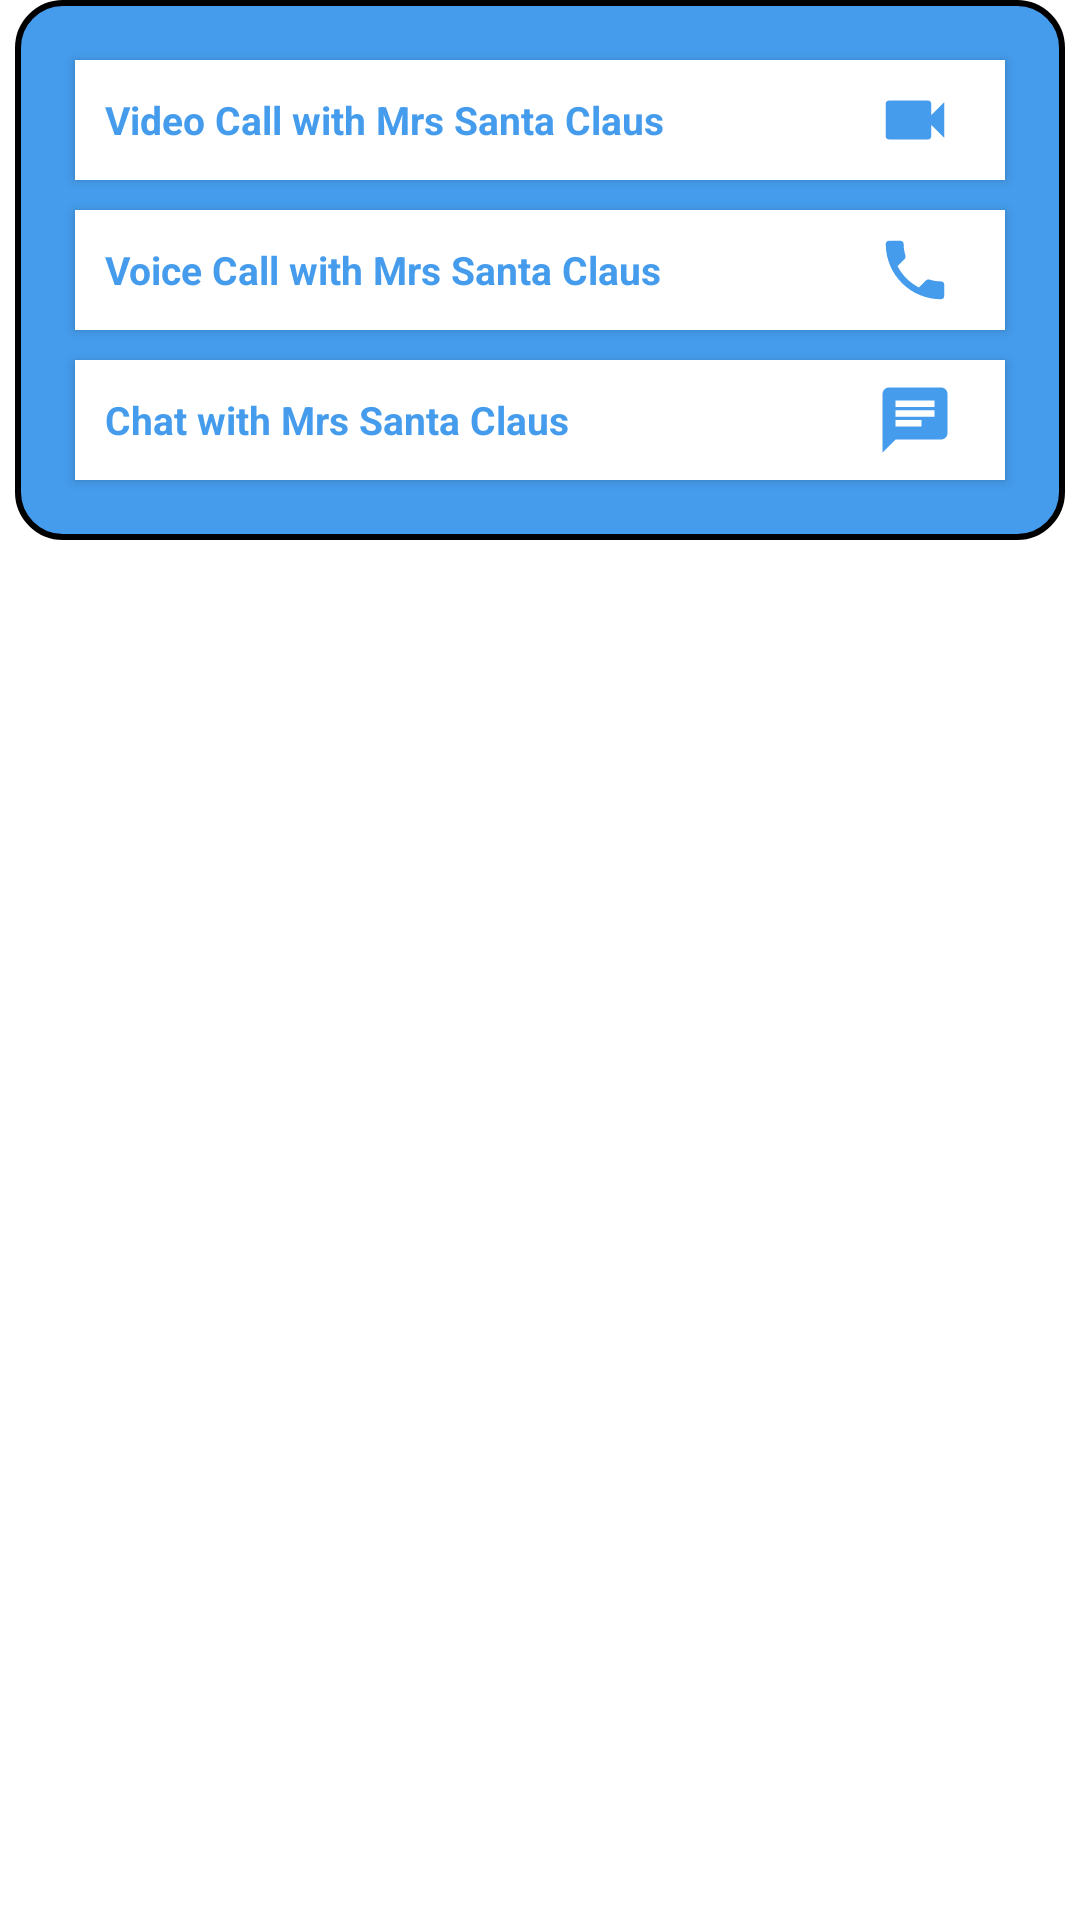

Named icons in this screenshot (1080w x 1920h) and their bounding boxes, (x1, y1, x2, y2):
phone santa: (885, 240, 945, 300)
